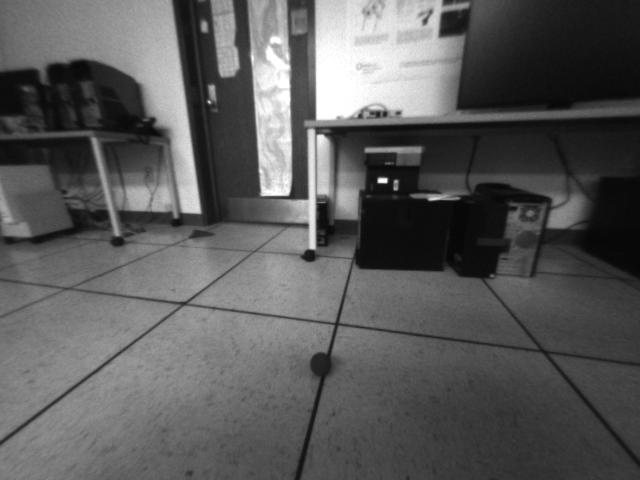dogtoy: (301, 345, 344, 383)
